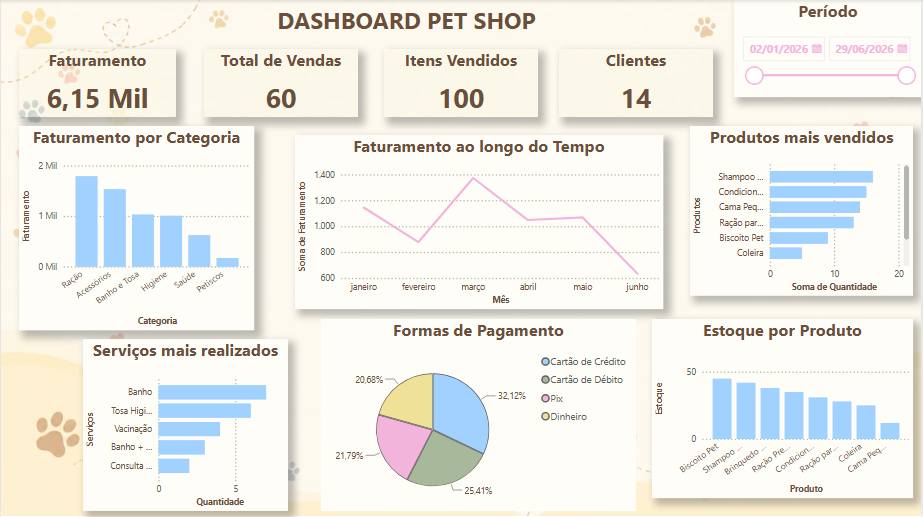

The page's visual inventory and layout, read from the dashboard file:
{"tool":"powerbi","page":{"name":"Página 1","canvas":[1280,720],"ordinal":0},"visuals":[{"type":"card","title":"Faturamento","fields":{"Values":["Sum(PetShop_Vendas.Faturamento)"]},"box":[25,68.1,218.2,94.5],"z":0},{"type":"card","title":"Total de Vendas","fields":{"Values":["Count(PetShop_Vendas.Venda_ID)"]},"box":[282.2,68.1,214.1,94.5],"z":1000},{"type":"card","title":"Itens Vendidos","fields":{"Values":["Sum(PetShop_Vendas.Quantidade)"]},"box":[532.4,68.1,214.1,94.5],"z":2000},{"type":"card","title":"Clientes","fields":{"Values":["Count(PetShop_Vendas.Cliente)"]},"box":[775.6,68.1,214.1,94.5],"z":3000},{"type":"lineClusteredColumnComboChart","title":"Faturamento por Categoria","fields":{"Category":["PetShop_Vendas.Categoria"],"Y":["Sum(PetShop_Vendas.Faturamento)"]},"box":[25,175.1,326.6,283.6],"z":4000},{"type":"lineChart","title":"Faturamento ao longo do Tempo","fields":{"Y":["Sum(PetShop_Vendas.Faturamento)"],"Category":["PetShop_Vendas.Data.Variation.Hierarquia de datas.Mês"]},"box":[408.6,187.6,511.5,241.9],"z":5000},{"type":"barChart","title":"Produtos mais vendidos","fields":{"Category":["PetShop_Vendas.Produto_Servico"],"Y":["Sum(PetShop_Vendas.Quantidade)"]},"box":[957.7,175.1,310,236.3],"z":6000},{"type":"clusteredBarChart","title":"Serviços mais realizados","fields":{"Category":["PetShop_Vendas.Produto_Servico"],"Y":["Sum(PetShop_Vendas.Quantidade)"]},"box":[114,471.2,284.9,239.1],"z":7000},{"type":"pieChart","title":"Formas de Pagamento","fields":{"Category":["PetShop_Vendas.Forma_Pagamento"],"Y":["Sum(PetShop_Vendas.Faturamento)"]},"box":[444.8,443.4,437.6,266.8],"z":8000},{"type":"clusteredColumnChart","title":"Estoque por Produto","fields":{"Category":["PetShop_Estoque.Produto"],"Y":["Sum(PetShop_Estoque.Estoque_Atual)"]},"box":[904.9,443.4,362.8,248.8],"z":9000},{"type":"slicer","title":"Período","fields":{"Values":["PetShop_Vendas.Data"]},"box":[1018.8,0,261.3,134.8],"z":10000},{"type":"textbox","box":[169.6,0,788.1,58.4],"z":11000}]}

Visuals, with their boxes in screenshot pixels (x1, y1, x2, y2), scaled from the page's 1280x720 canvas onto the 923x517 screenshot:
"Faturamento" card: l=18, t=49, r=175, b=117
"Total de Vendas" card: l=203, t=49, r=358, b=117
"Itens Vendidos" card: l=384, t=49, r=538, b=117
"Clientes" card: l=559, t=49, r=714, b=117
"Faturamento por Categoria" lineClusteredColumnComboChart: l=18, t=126, r=254, b=329
"Faturamento ao longo do Tempo" lineChart: l=295, t=135, r=663, b=308
"Produtos mais vendidos" barChart: l=691, t=126, r=914, b=295
"Serviços mais realizados" clusteredBarChart: l=82, t=338, r=288, b=510
"Formas de Pagamento" pieChart: l=321, t=318, r=636, b=510
"Estoque por Produto" clusteredColumnChart: l=653, t=318, r=914, b=497
"Período" slicer: l=735, t=0, r=922, b=97
textbox: l=122, t=0, r=691, b=42
